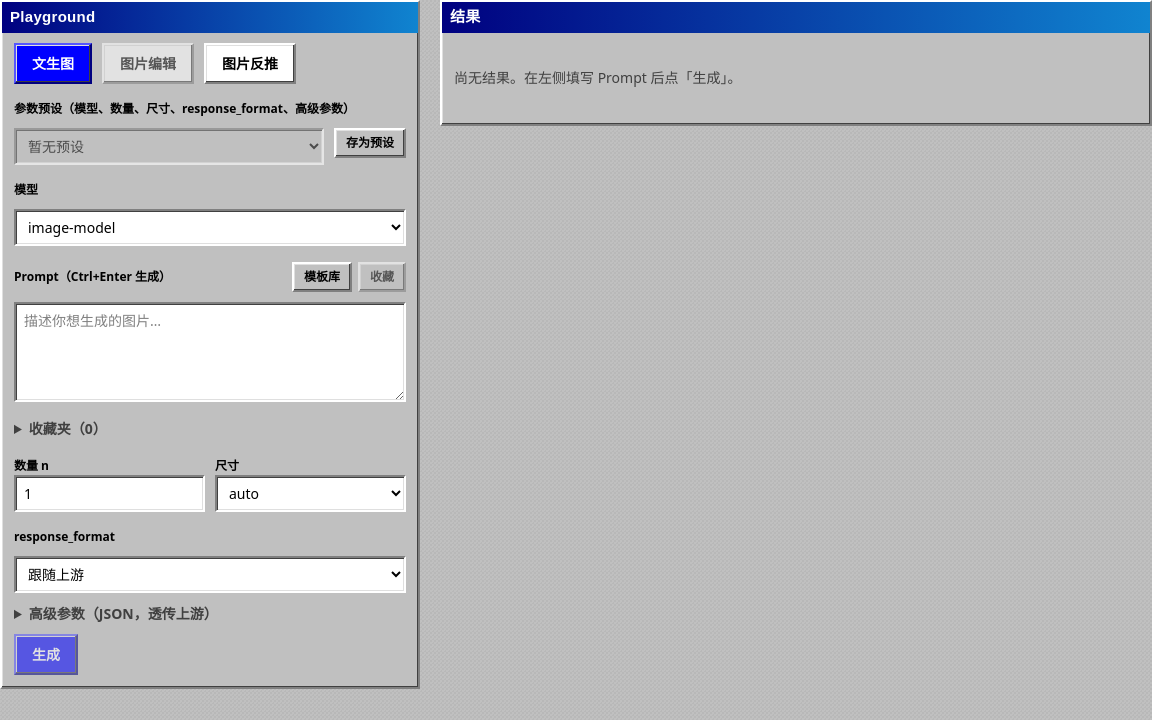
Playground prompt reverse › shows an empty hint when history has no importable images
The image size is (1152, 720).
Click the button "图片反推" at (250, 63), box [204,42,296,84]
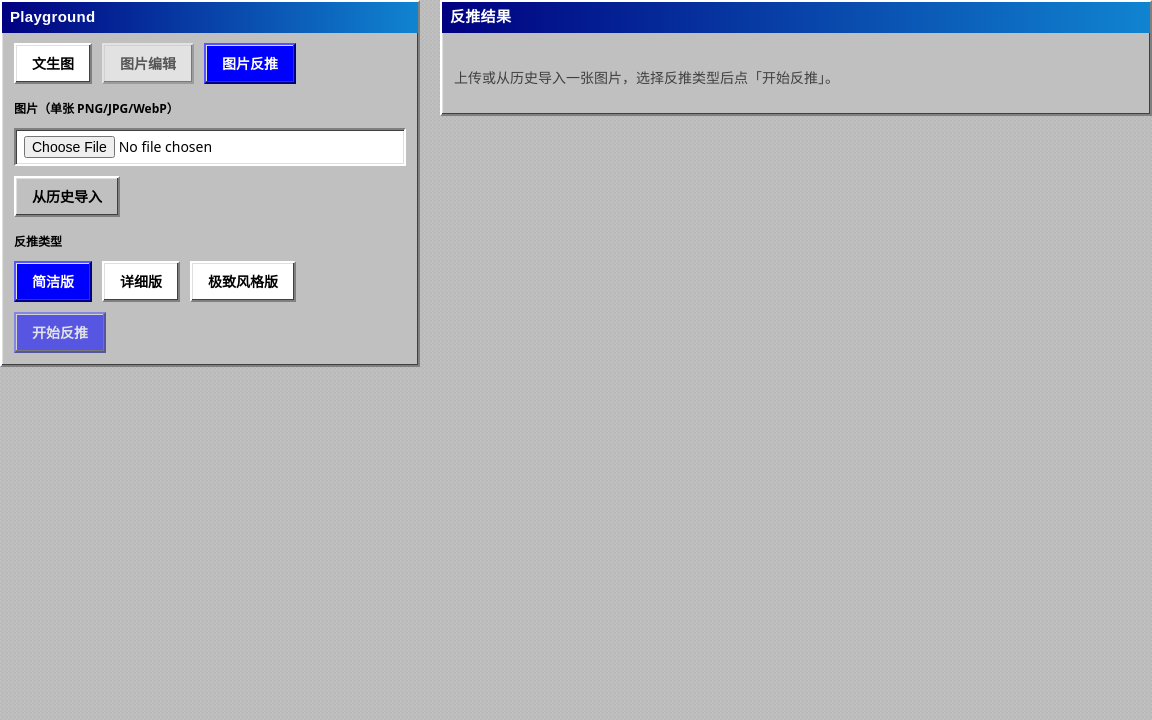
Click the button "从历史导入" at (67, 196), box [14,176,120,216]
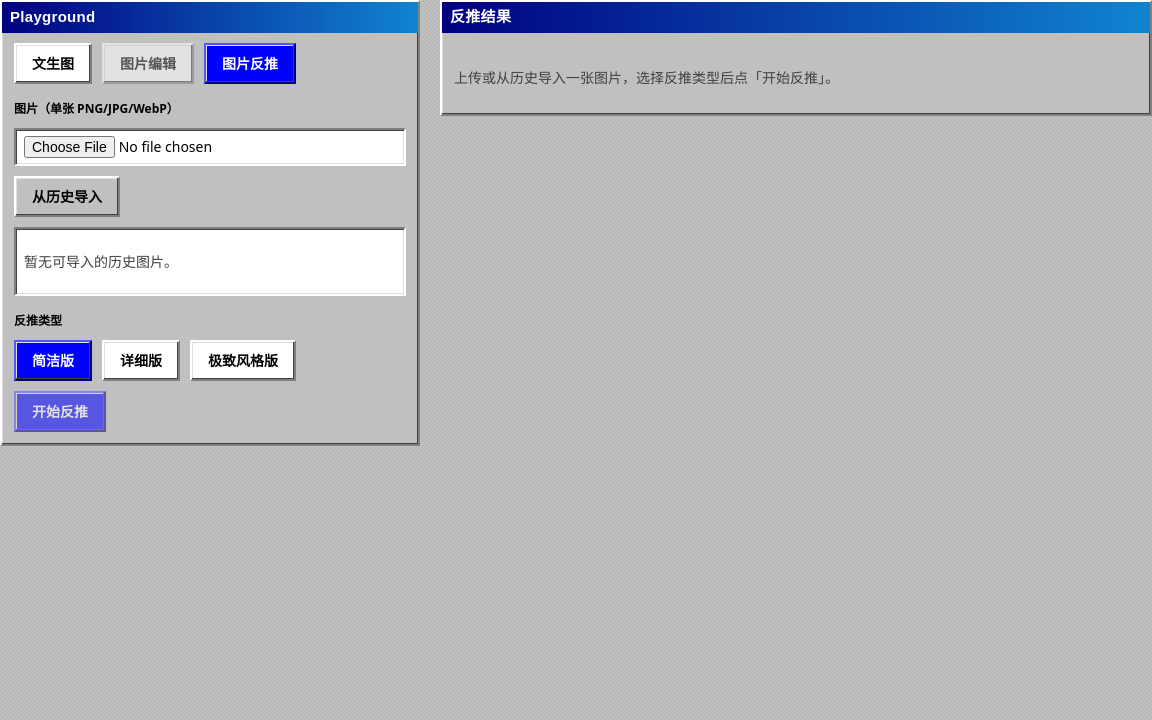
Expected: the text "暂无可导入的历史图片。" is shown, [24,250,178,272]
